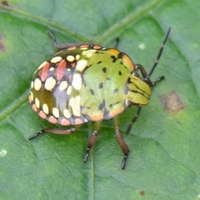insect: (28, 29, 169, 168)
